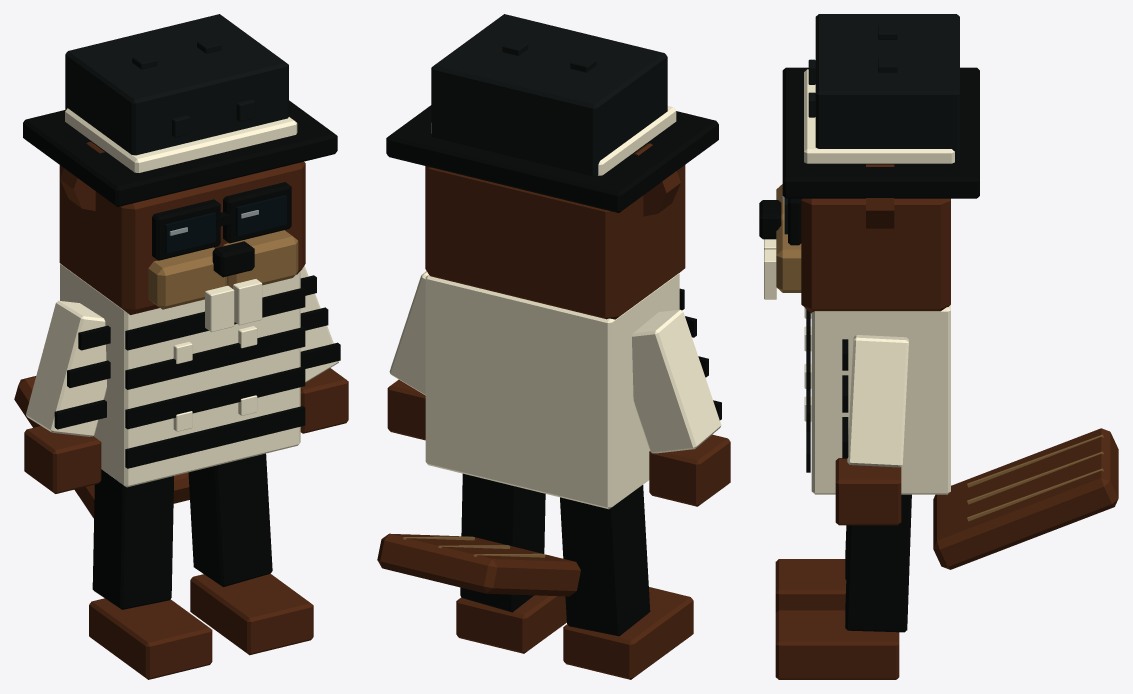
The model's file is BanditoBobritto.glb.
The picture shows the model from 3 angles, left to right: view 1: azimuth 30°, elevation 25°; view 2: azimuth 150°, elevation 25°; view 3: azimuth 270°, elevation 25°; orthographic projection. The views are drawn at different scales.
Parts seen in each view (by area): view 1: BanditoBobritto; view 2: BanditoBobritto; view 3: BanditoBobritto.
Part boxes in pixels (x1,y1,x2,y2): BanditoBobritto: [14, 14, 348, 679]; BanditoBobritto: [377, 14, 730, 679]; BanditoBobritto: [759, 14, 1118, 679].
Bounding box in the file's own units: 2.71 × 5 × 2.74.
Materials: 1 (1 with a texture image).
